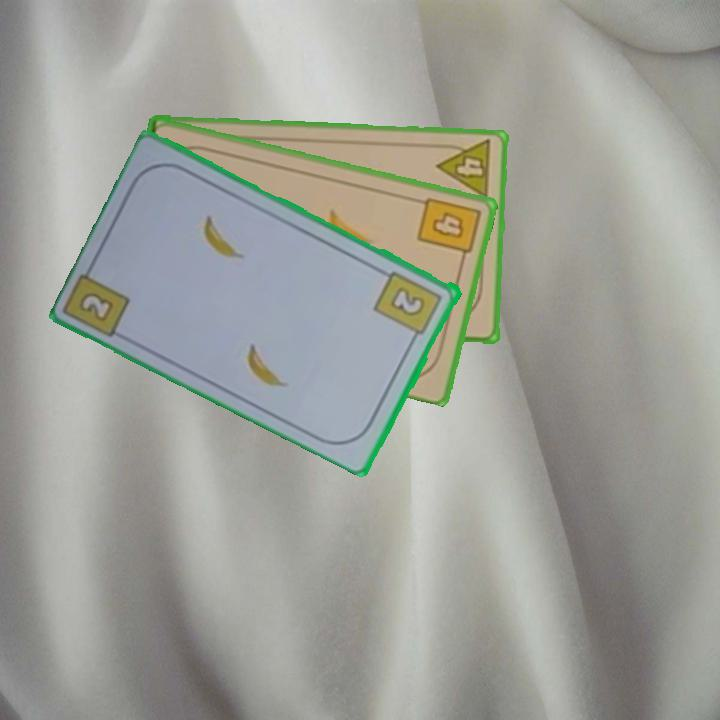2b: (371, 267, 446, 345), (74, 288, 117, 325)
4b: (413, 193, 483, 266)
4p: (434, 136, 495, 202)
